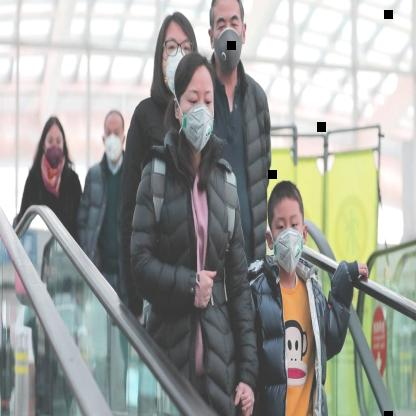mask: (170, 50, 216, 154), (262, 176, 308, 276), (155, 9, 200, 98), (205, 0, 249, 76), (40, 110, 70, 169), (101, 105, 128, 162)
